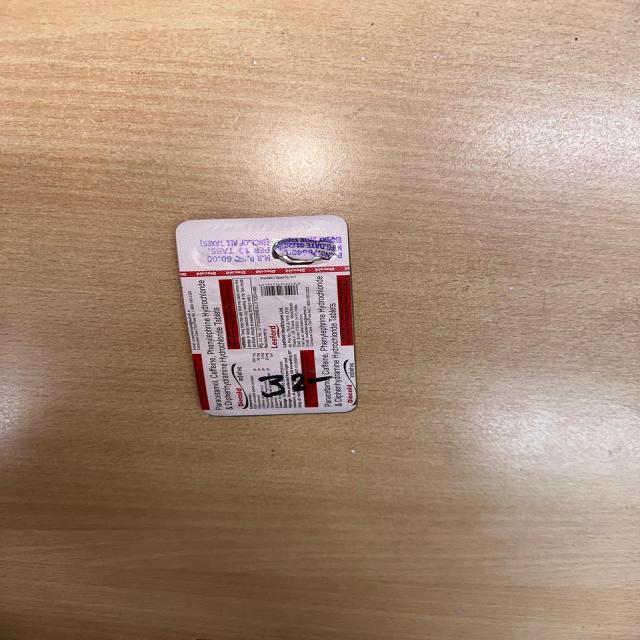medicine: (162, 208, 387, 420)
